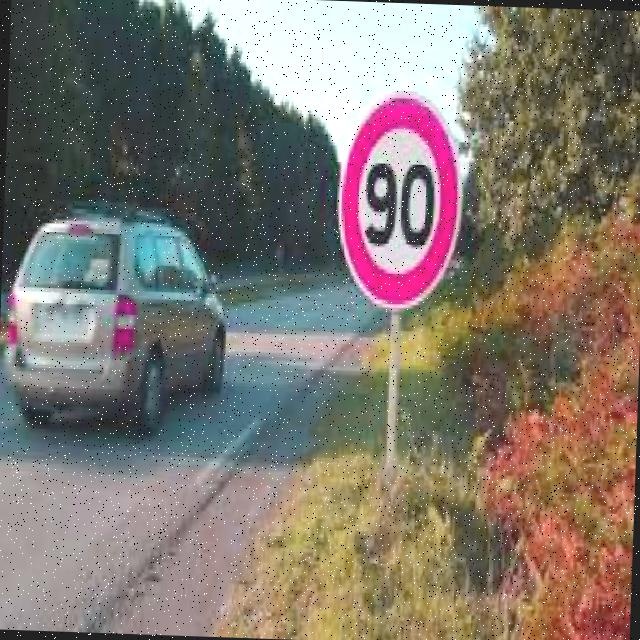Ograniczenie predkosci do 90: (338, 91, 462, 306)
